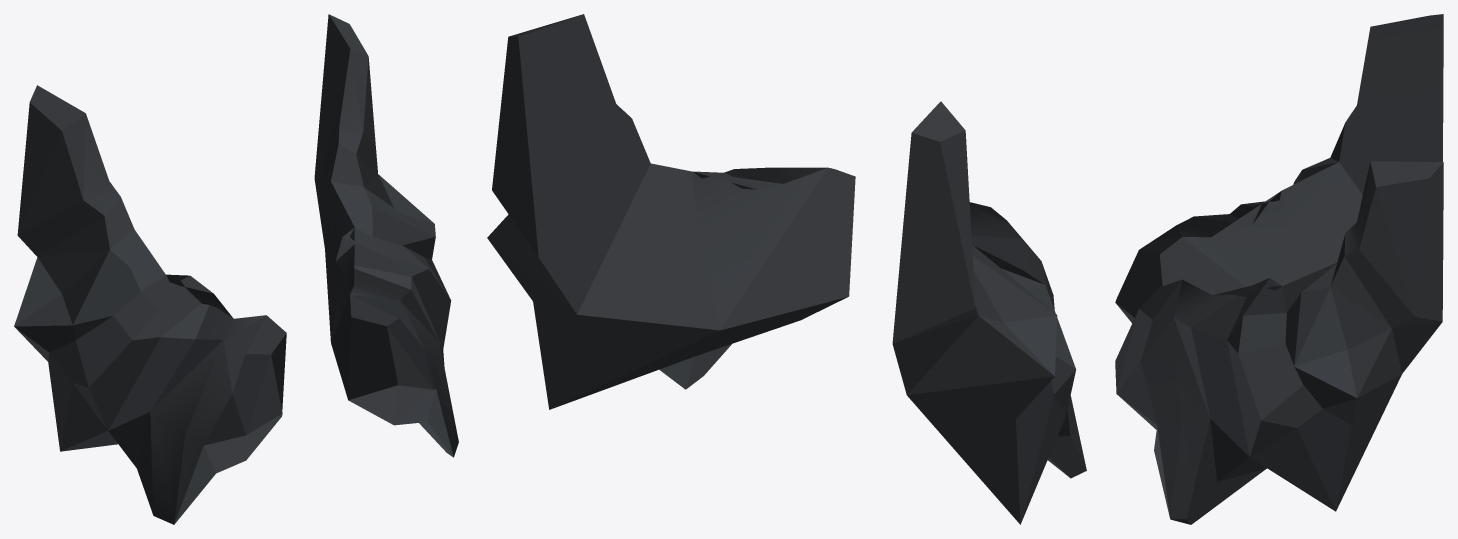
Rendered from SM_Chr_Attach_Beard_07.fbx.
3 views of the same model, side by side, from view 1: azimuth 30°, elevation 25°; view 2: azimuth 150°, elevation 25°; view 3: azimuth 270°, elevation 25° (orthographic). The views are drawn at different scales.
Visible parts, largest first — view 1: SM_Chr_Attach_Beard_07; view 2: SM_Chr_Attach_Beard_07; view 3: SM_Chr_Attach_Beard_07.
Part boxes in pixels (x1,y1,x2,y2): SM_Chr_Attach_Beard_07: [14, 14, 458, 524]; SM_Chr_Attach_Beard_07: [487, 14, 1086, 524]; SM_Chr_Attach_Beard_07: [1115, 14, 1443, 524].
Size of the model in its own units: 24.88 by 19.76 by 16.15.
